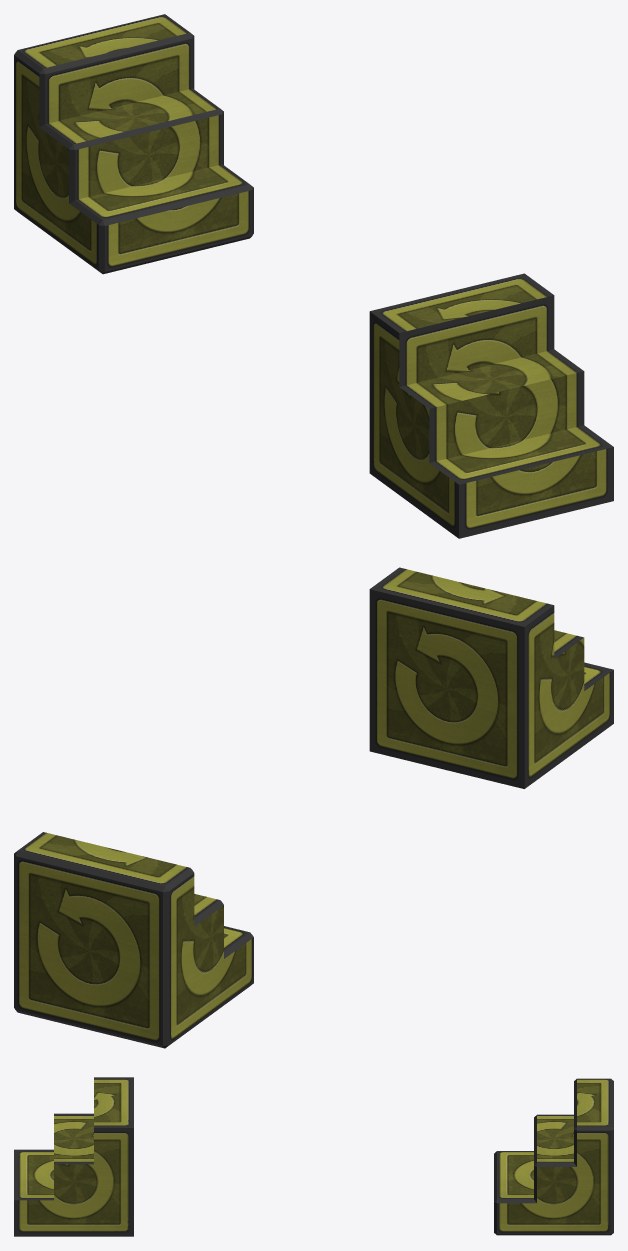
Rendered from step3.fbx.
3 renders of one model, top to bottom at view 1: azimuth 30°, elevation 25°; view 2: azimuth 150°, elevation 25°; view 3: azimuth 270°, elevation 25°, orthographic. The views are drawn at different scales.
Parts seen in each view (by area): view 1: MESH step3, MESH step3.c; view 2: MESH step3, MESH step3.c; view 3: MESH step3, MESH step3.c.
Boxes of the visible parts, bbox=[...] form: MESH step3: bbox=[369, 273, 613, 538]; MESH step3.c: bbox=[14, 14, 253, 274]; MESH step3: bbox=[369, 567, 613, 788]; MESH step3.c: bbox=[14, 832, 253, 1048]; MESH step3: bbox=[14, 1077, 133, 1236]; MESH step3.c: bbox=[494, 1078, 613, 1235].
Size of what is drawn, in the model's own units: 100 by 100 by 500.
